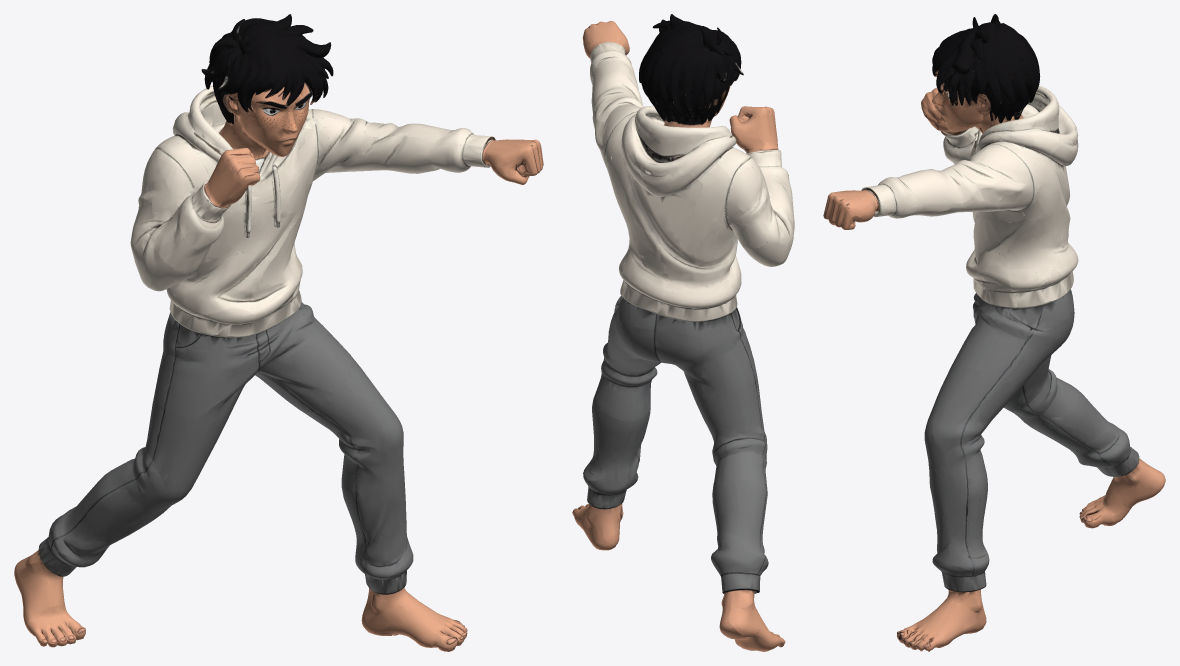
Rendered from boxing.glb.
3 renders of one model, left to right at view 1: azimuth 30°, elevation 25°; view 2: azimuth 150°, elevation 25°; view 3: azimuth 270°, elevation 25°, orthographic. The views are drawn at different scales.
Parts seen in each view (by area): view 1: CH_BoxingResident; view 2: CH_BoxingResident; view 3: CH_BoxingResident.
Part boxes in pixels (box(x1,y1,x2,y2)): CH_BoxingResident: box(14, 14, 543, 651); CH_BoxingResident: box(572, 14, 794, 651); CH_BoxingResident: box(823, 14, 1165, 651).
Size of the model in its own units: 1.05 by 1.72 by 0.952.
1 material, 1 textured.
